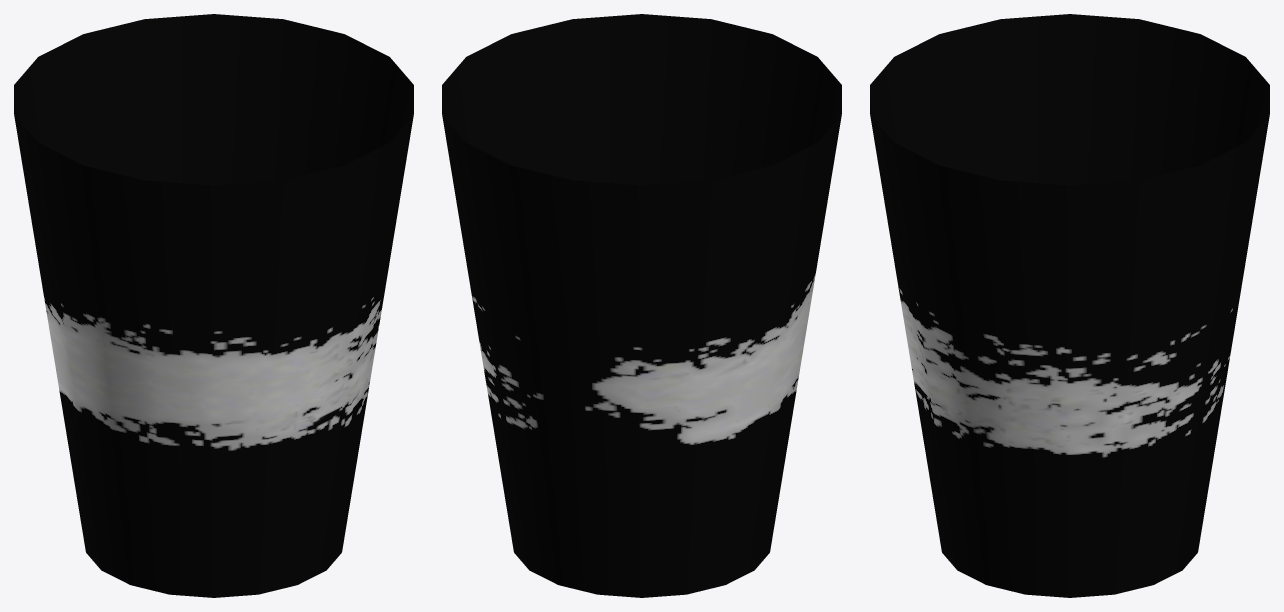
The model's file is yuantong.fbx.
3 views of the same model, side by side, from view 1: azimuth 30°, elevation 25°; view 2: azimuth 150°, elevation 25°; view 3: azimuth 270°, elevation 25° (orthographic).
Parts seen in each view (by area): view 1: yuantong; view 2: yuantong; view 3: yuantong.
Part boxes in pixels (x1,y1,x2,y2): yuantong: (14, 14, 413, 597); yuantong: (442, 14, 841, 597); yuantong: (870, 14, 1269, 597).
Size of the model in its own units: 1.03 by 1.24 by 1.01.
1 material, 1 textured.
